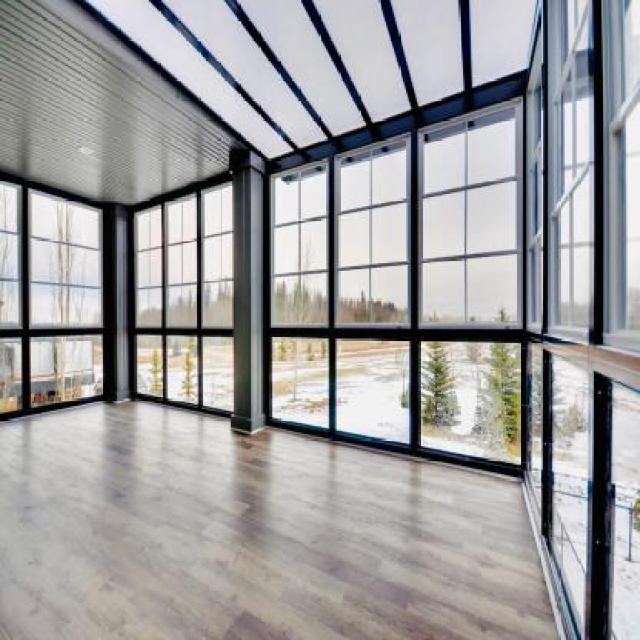Floor: (0, 399, 559, 640)
